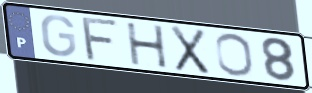8: (259, 36, 297, 83)
F: (81, 16, 122, 63)
G: (39, 14, 79, 59)
H: (124, 21, 170, 70)
O: (213, 32, 256, 78)
X: (169, 24, 212, 77)
